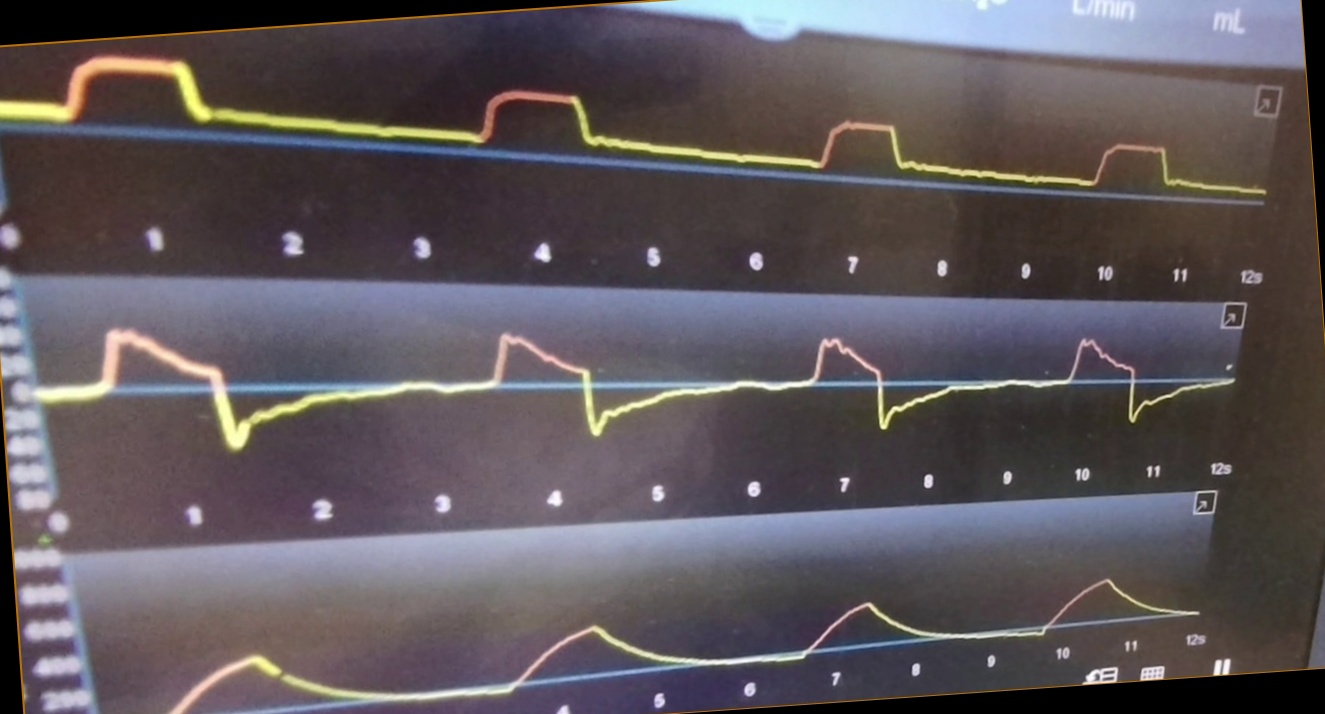Accumulation Flow: (42, 303, 1234, 458)
Volume: (159, 554, 1201, 713)
